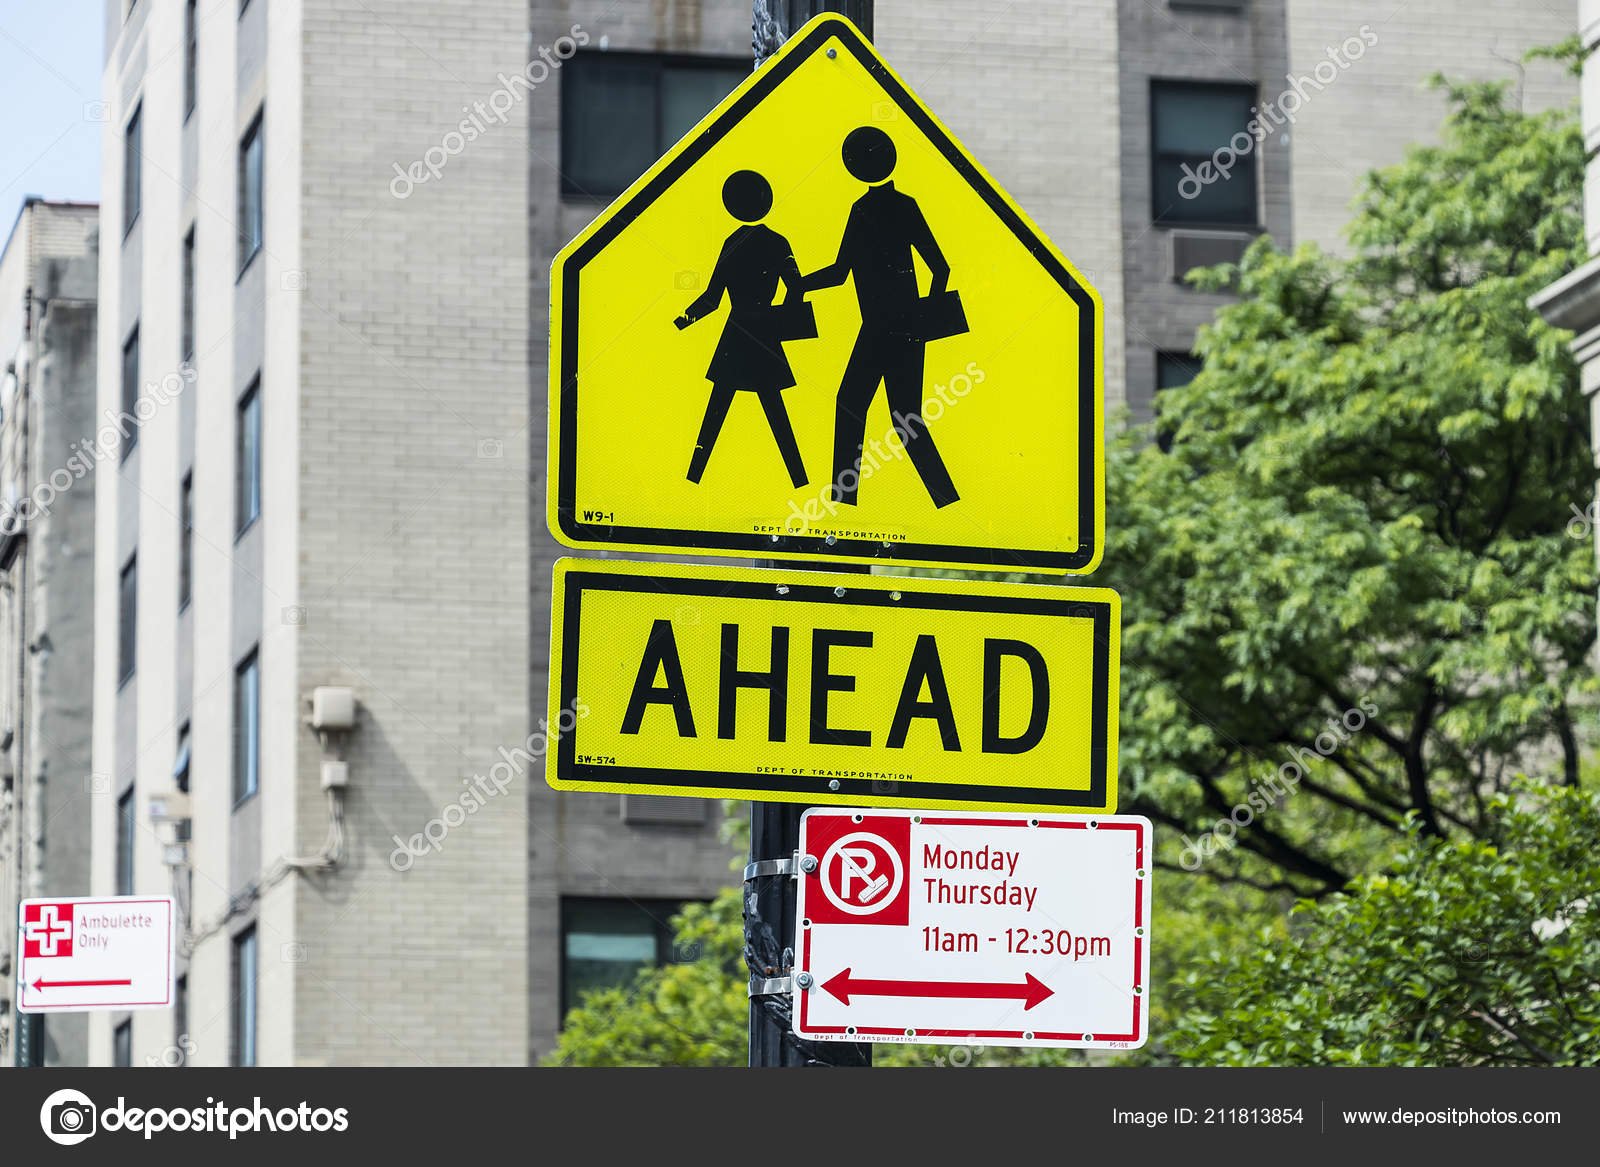slow: (540, 12, 1109, 579)
